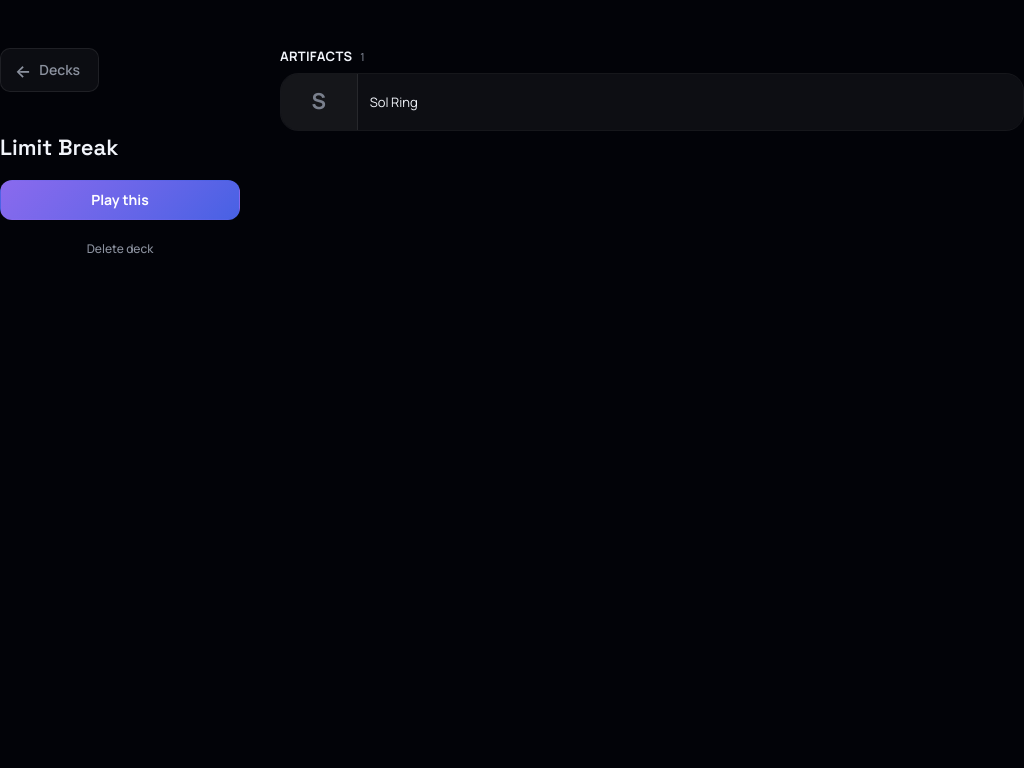
DeckDetailComponent › does nothing until the modal is confirmed
This screenshot has width=1024, height=768.
Click the button "Delete deck" at point(120, 249), box [0,236,240,262]
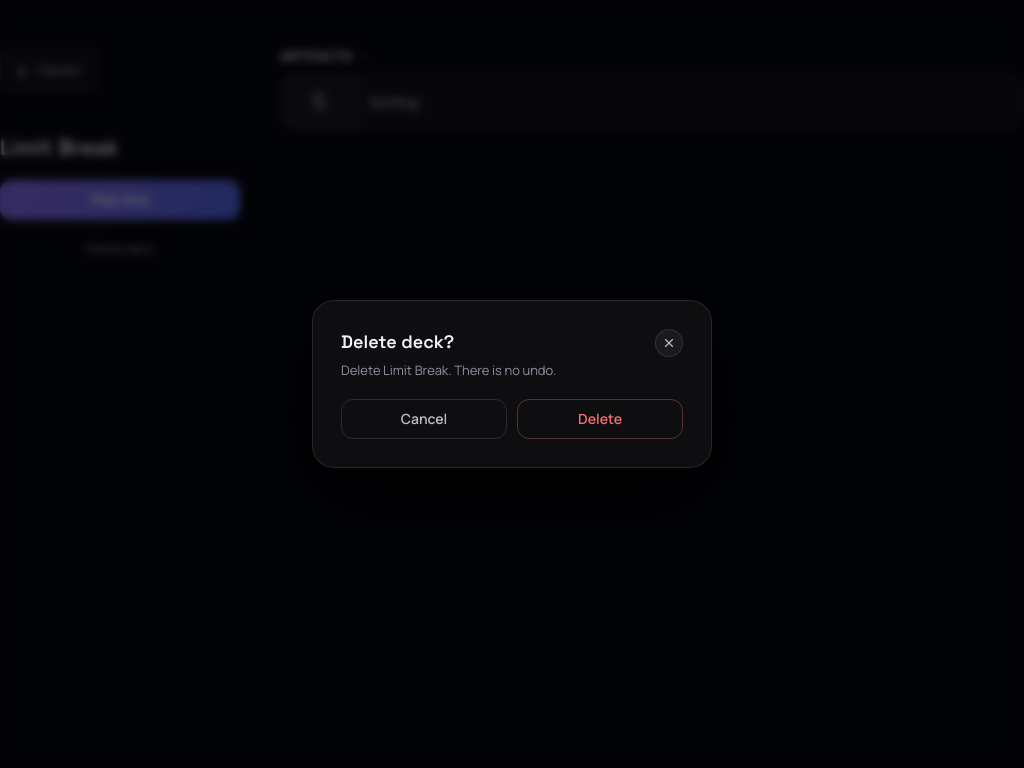
Result: the dialog is shown at [312,300,712,468]
Click the button "Cancel" at point(424, 420), box [341,400,507,440]
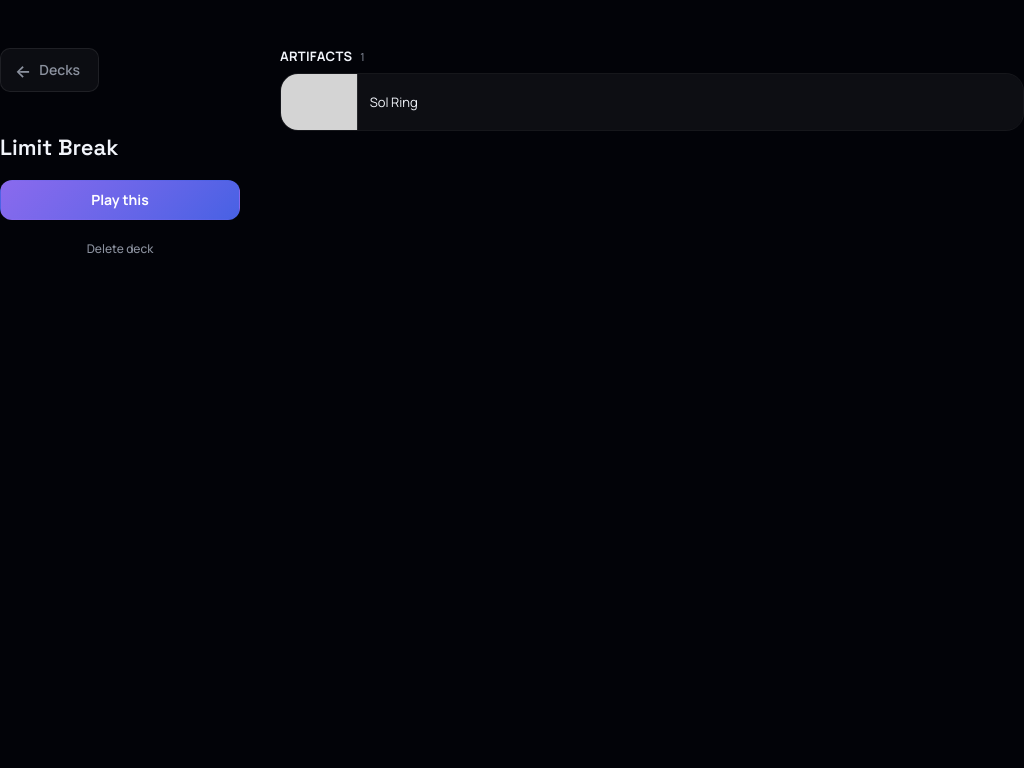
Result: the dialog is gone
